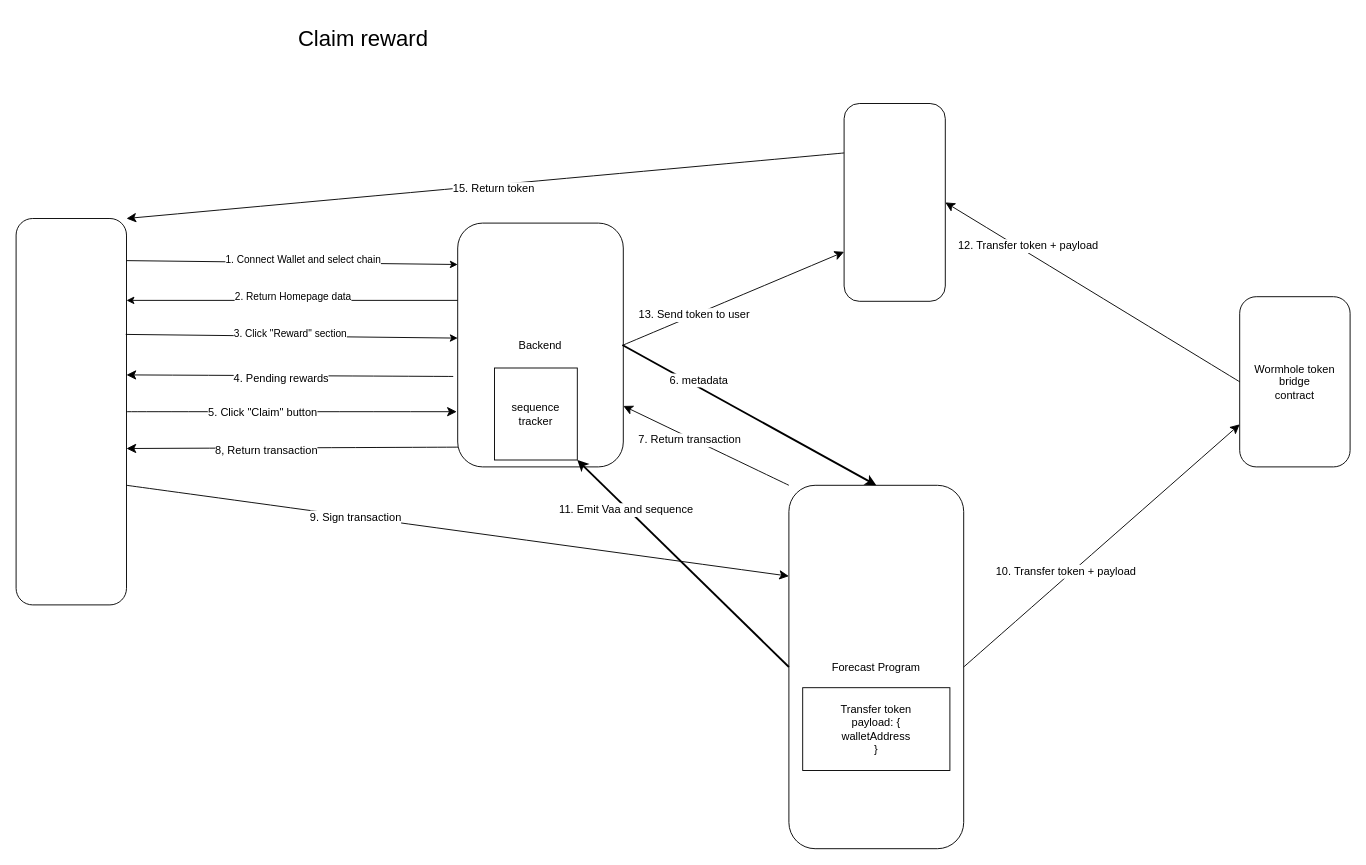
Image size: 1366x865. Some labels were removed from this diagram. Here are the shapes that lost their labels. From the top down, the box of each, then its label:
(843, 103, 945, 301): EVM Contract
(15, 218, 126, 605): User
